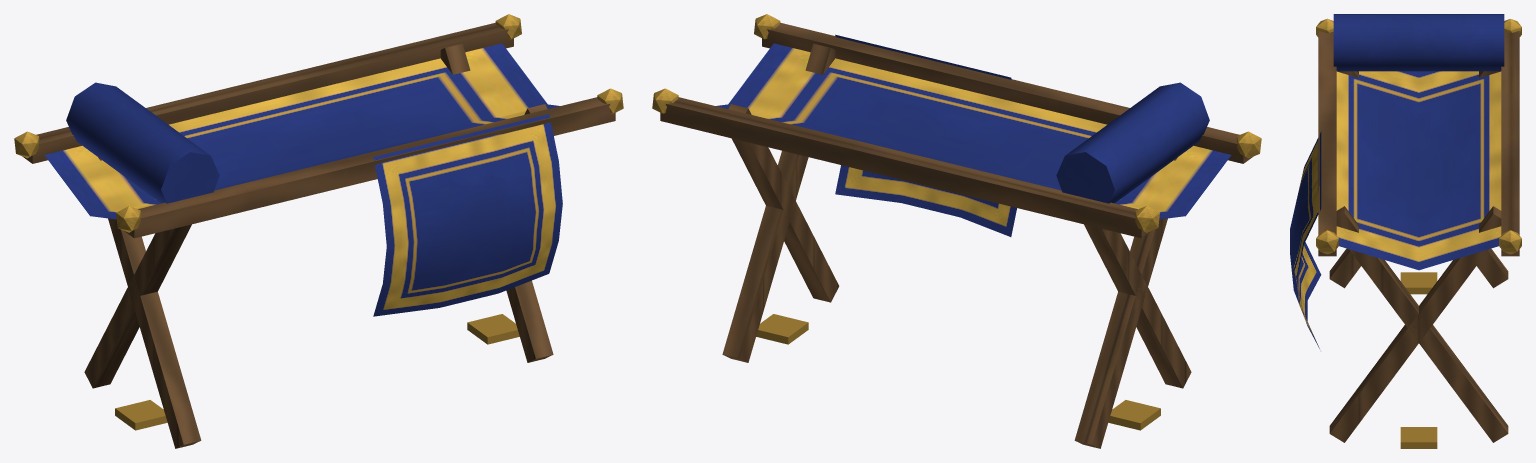
Rendered from prop_veldbed_blue.glb.
The picture shows the model from 3 angles, left to right: view 1: azimuth 30°, elevation 25°; view 2: azimuth 150°, elevation 25°; view 3: azimuth 270°, elevation 25°; orthographic projection. The views are drawn at different scales.
Parts seen in each view (by area): view 1: prop_veldbed_blue; view 2: prop_veldbed_blue; view 3: prop_veldbed_blue.
Part boxes in pixels (x1=…): prop_veldbed_blue: x1=14, y1=14, x2=623, y2=448; prop_veldbed_blue: x1=652, y1=14, x2=1261, y2=448; prop_veldbed_blue: x1=1290, y1=14, x2=1521, y2=448.
Size of the model in its own units: 0.8594 by 0.491 by 0.38.
Materials: 1 (1 with a texture image).
